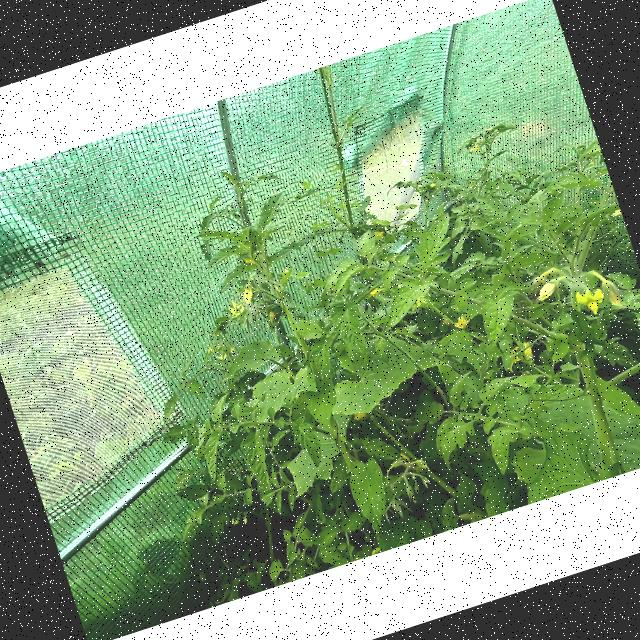Flowers: (498, 337, 538, 372), (572, 282, 610, 318), (227, 298, 248, 320), (454, 312, 472, 331), (242, 284, 256, 304), (470, 140, 484, 154), (216, 351, 227, 362), (206, 344, 215, 354), (228, 346, 236, 354)
